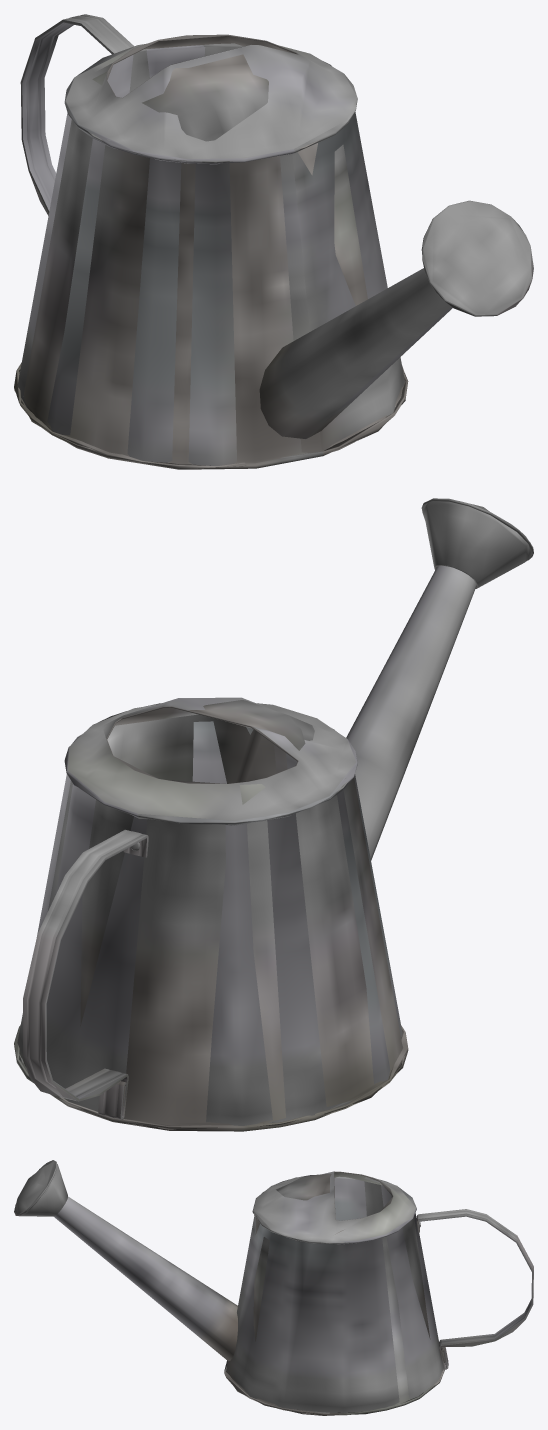
3 renders of one model, top to bottom at view 1: azimuth 30°, elevation 25°; view 2: azimuth 150°, elevation 25°; view 3: azimuth 270°, elevation 25°, orthographic. The views are drawn at different scales.
Visible parts, largest first — view 1: watering_can_metal_01; view 2: watering_can_metal_01; view 3: watering_can_metal_01.
Part boxes in pixels (x1,y1,x2,y2): watering_can_metal_01: (14,14,533,469); watering_can_metal_01: (14,498,533,1131); watering_can_metal_01: (14,1160,533,1415).
Bounding box in the file's own units: 0.1905 × 0.1964 × 0.4506.
1 material, 1 textured.
